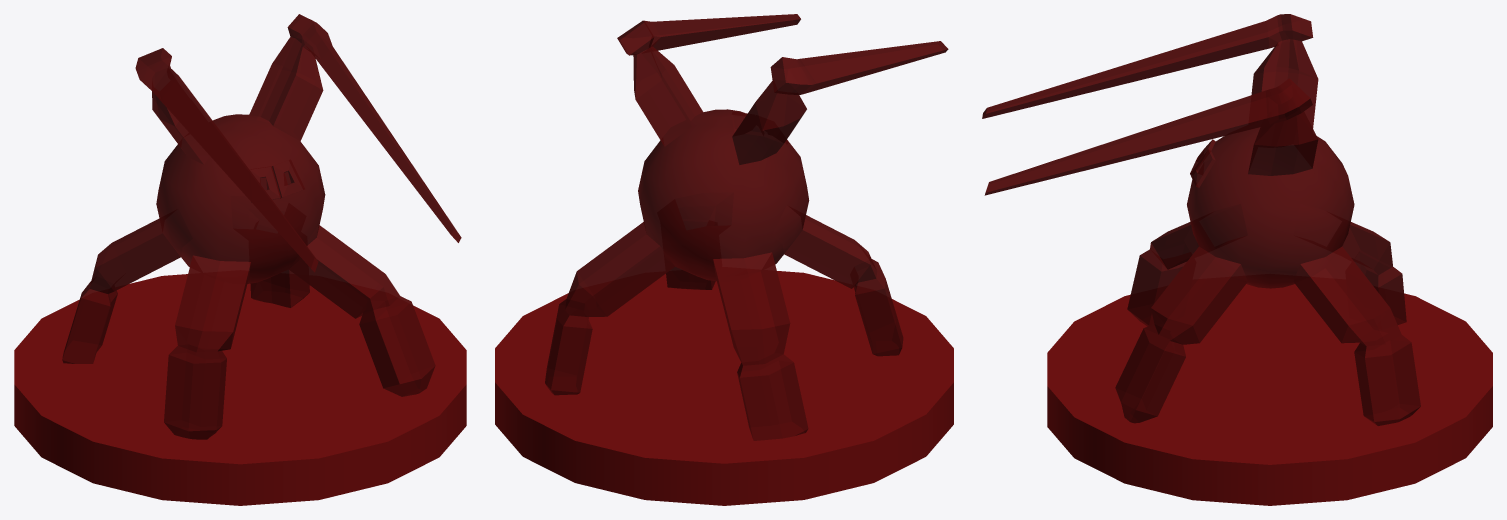
Rendered from RedTeamAnimal.fbx.
3 renders of one model, left to right at view 1: azimuth 30°, elevation 25°; view 2: azimuth 150°, elevation 25°; view 3: azimuth 270°, elevation 25°, orthographic. The views are drawn at different scales.
Visible parts, largest first — view 1: Base, Animal; view 2: Base, Animal; view 3: Base, Animal.
Boxes of the visible parts, bbox=[...] form: Base: bbox=[14, 274, 466, 505]; Animal: bbox=[62, 14, 461, 439]; Base: bbox=[495, 271, 953, 505]; Animal: bbox=[545, 14, 948, 440]; Base: bbox=[1047, 284, 1492, 505]; Animal: bbox=[982, 14, 1420, 425].
Size of the model in its own units: 39.37 by 35.07 by 44.45.
